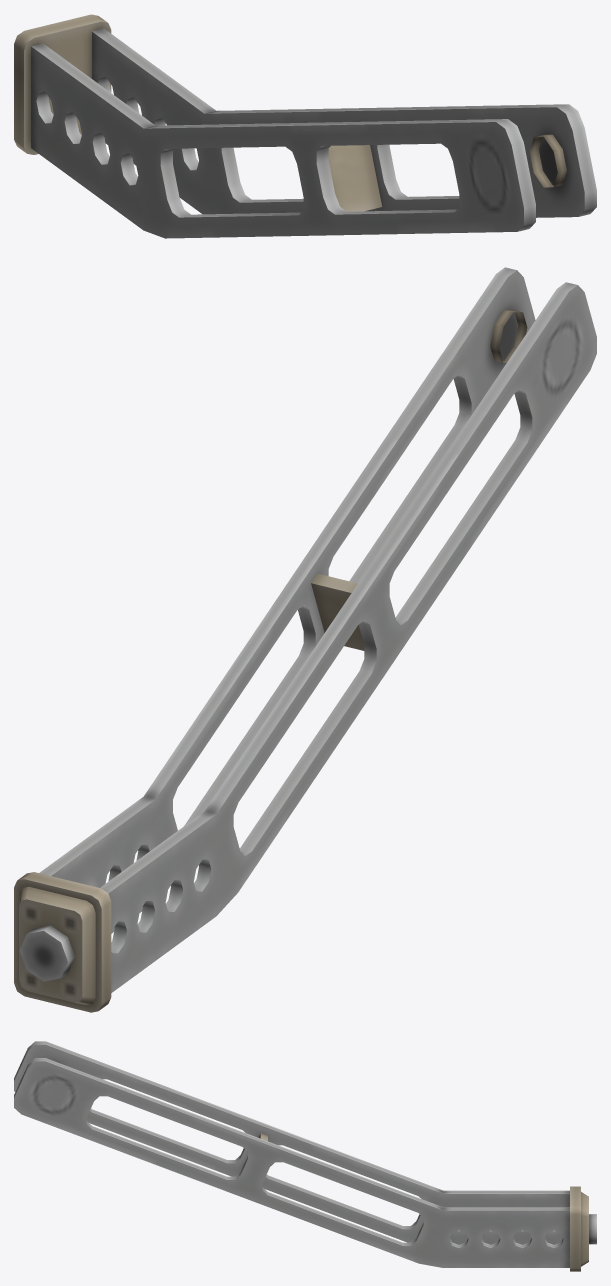
Rendered from Tantares_Antenna_2_1_Arm.obj.
3 views of the same model, one above another, from view 1: azimuth 30°, elevation 25°; view 2: azimuth 150°, elevation 25°; view 3: azimuth 270°, elevation 25° (orthographic). The views are drawn at different scales.
Visible parts, largest first — view 1: Tantares_Antenna_2_1_Arm; view 2: Tantares_Antenna_2_1_Arm; view 3: Tantares_Antenna_2_1_Arm.
Boxes of the visible parts, <box> form: Tantares_Antenna_2_1_Arm: <box>14,14,596,238</box>; Tantares_Antenna_2_1_Arm: <box>14,267,596,1012</box>; Tantares_Antenna_2_1_Arm: <box>14,1041,596,1271</box>.
Bounding box in the file's own units: 0.09 × 0.3672 × 0.9193.
